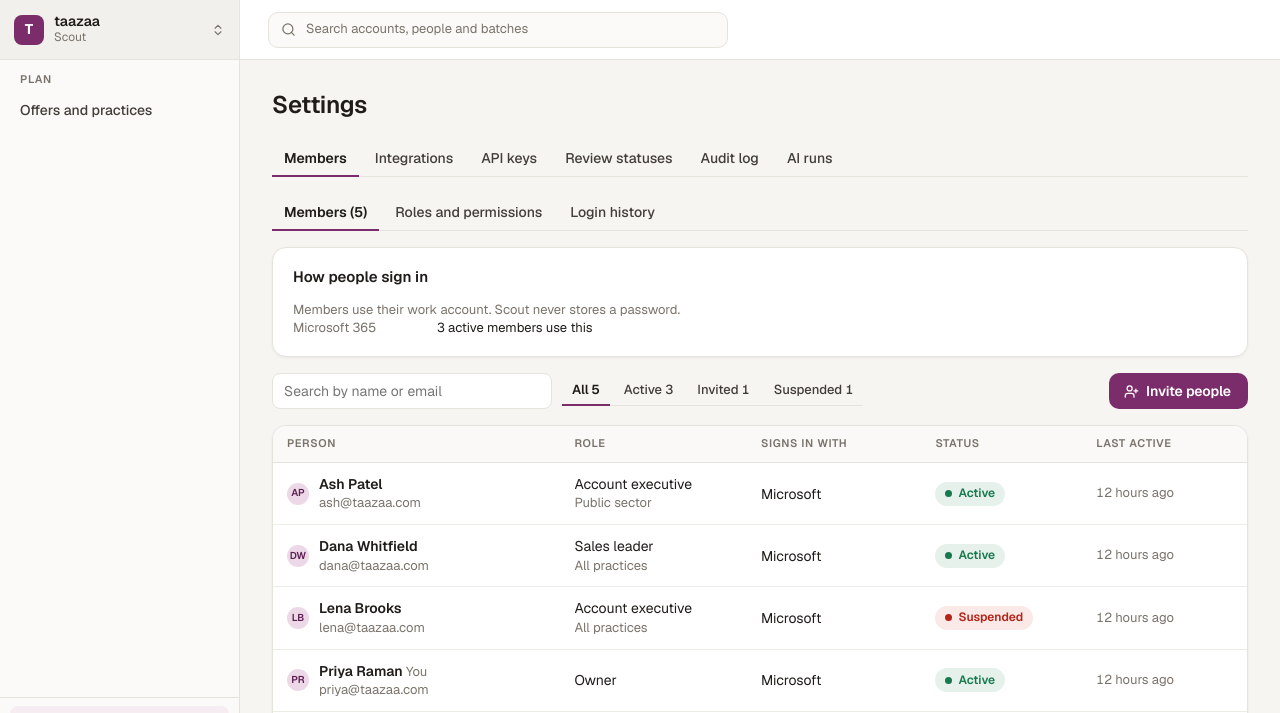
Test: Roles and permissions tab › shows the read-only matrix with the API labels and groups
The image size is (1280, 713).
What coordinates should you click on to do the following:
click the tab "Roles and permissions"
I would click on:
 (469, 213)
Its box is [383,195,554,231].
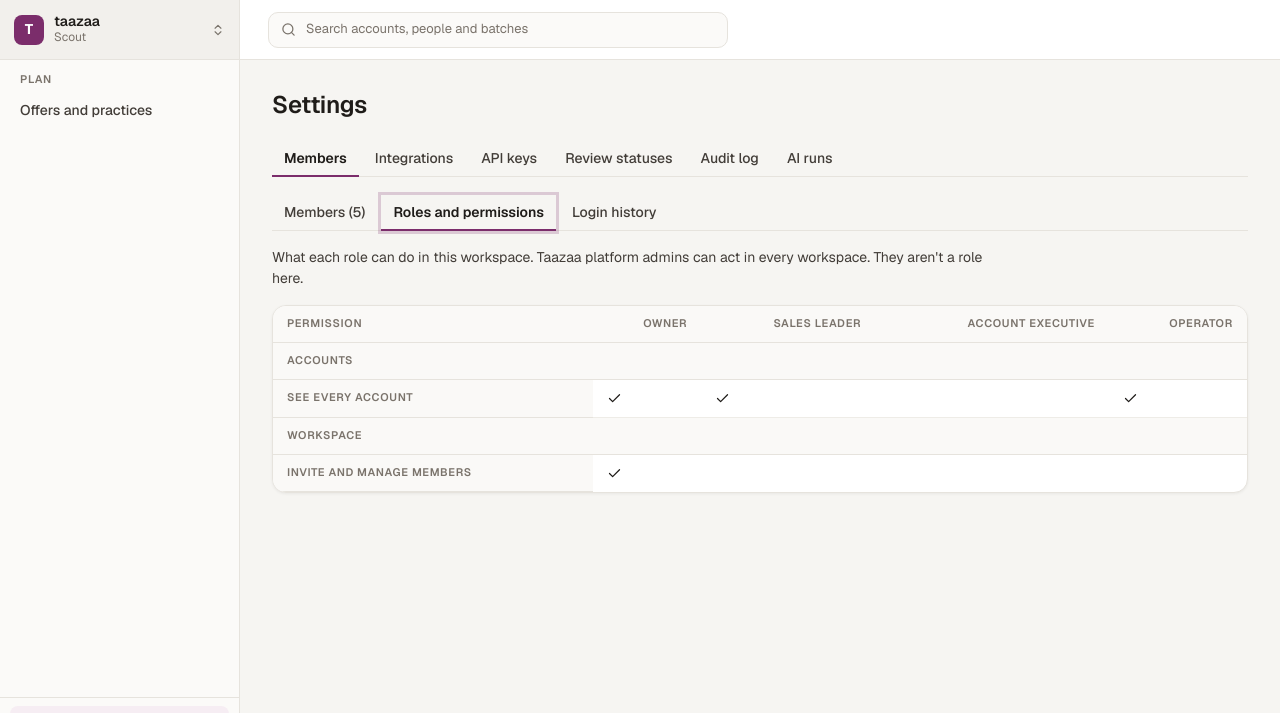
Expected: the column heading "Sales leader" is shown, [701,306,875,342]
Expected: the column heading "Workspace" is shown, [273,417,1247,454]
Expected: the text "Taazaa platform admins can act in every workspace. They aren't a role here." is shown, [272,248,982,287]
